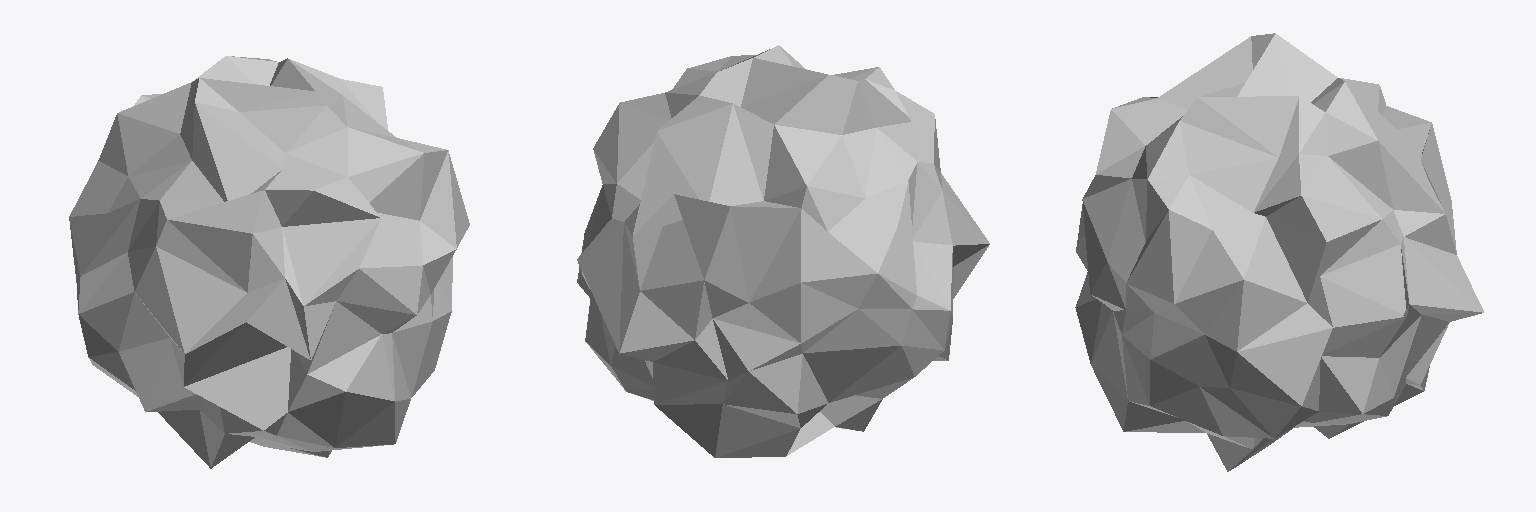
File: CramplePaper2.obj
3 views of the same model, side by side, from view 1: azimuth 30°, elevation 25°; view 2: azimuth 150°, elevation 25°; view 3: azimuth 270°, elevation 25° (orthographic).
Visible parts, largest first — view 1: Icosphere.002; view 2: Icosphere.002; view 3: Icosphere.002.
Part boxes in pixels (x1,y1,x2,y2): Icosphere.002: (69, 56, 469, 468); Icosphere.002: (577, 45, 989, 457); Icosphere.002: (1075, 33, 1483, 471).
Bounding box in the file's own units: 0.1138 × 0.1172 × 0.112.